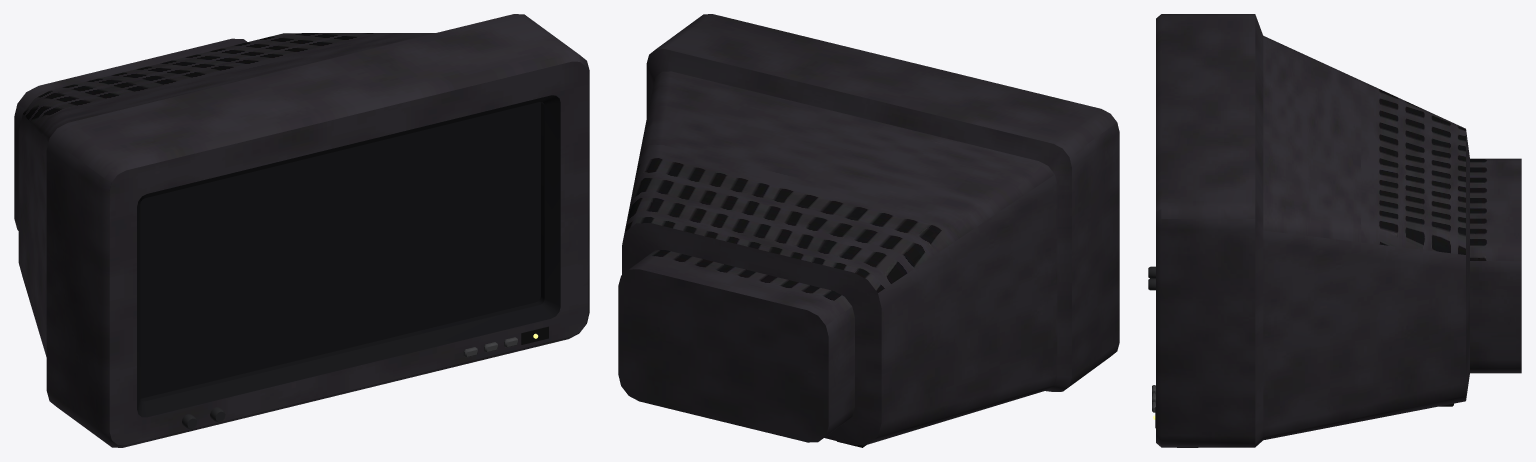
File: crt-casing.glb
The picture shows the model from 3 angles, left to right: view 1: azimuth 30°, elevation 25°; view 2: azimuth 150°, elevation 25°; view 3: azimuth 270°, elevation 25°; orthographic projection. The views are drawn at different scales.
Parts seen in each view (by area): view 1: crt_casing; view 2: crt_casing; view 3: crt_casing.
Boxes of the visible parts, x1,y1,x2,y2 form: crt_casing: (14,14,589,447); crt_casing: (618,14,1119,447); crt_casing: (1148,14,1521,447).
Bounding box in the file's own units: 0.606 × 0.344 × 0.4695.
2 materials, 1 textured.
